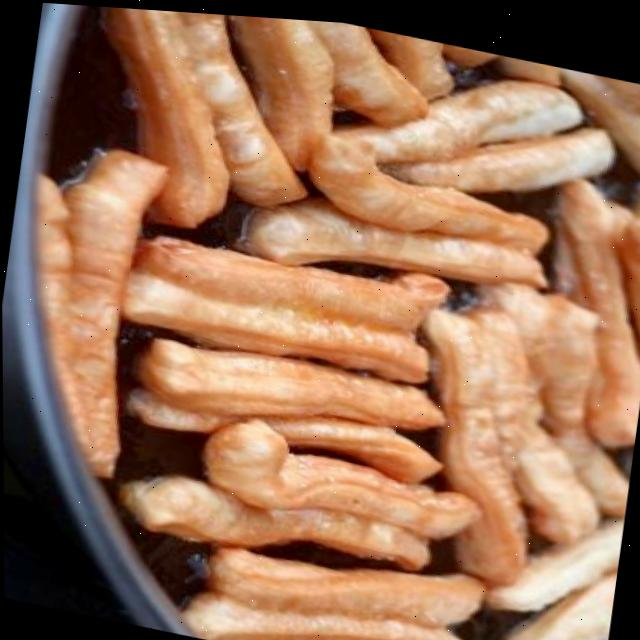炸货点心: (15, 1, 640, 640)
